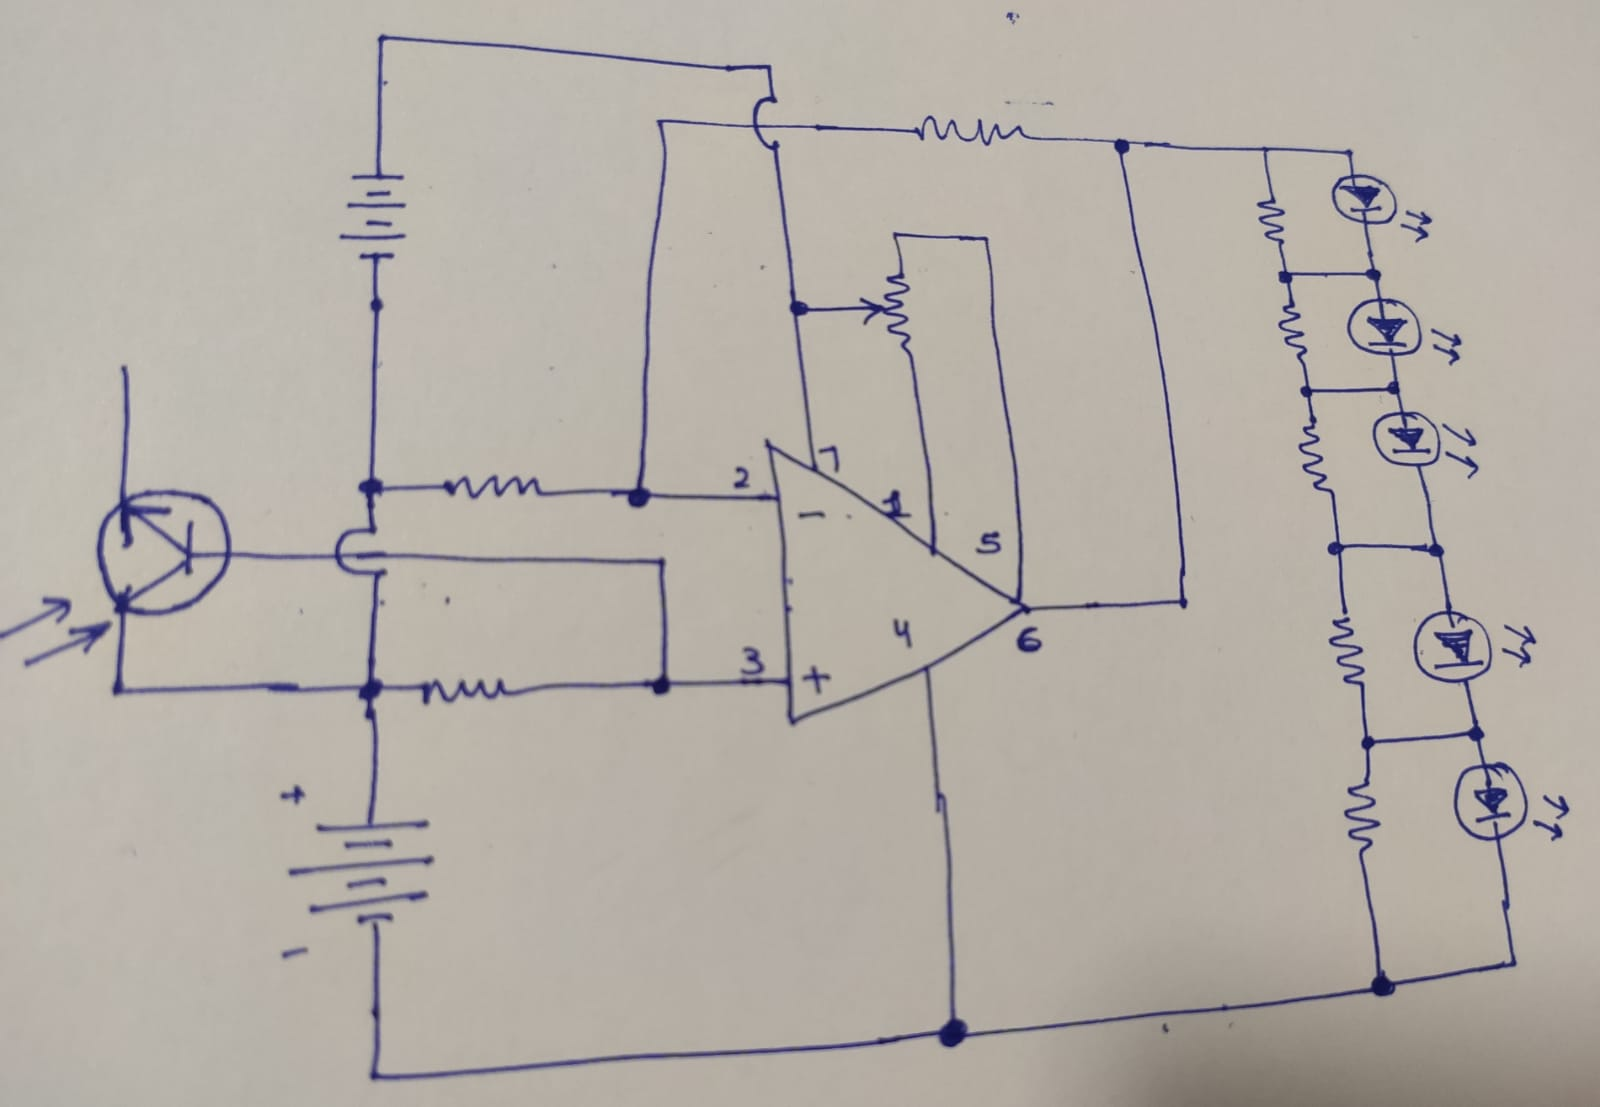crossover: (332, 519, 390, 582), (751, 89, 788, 156)
diode.light_emitting: (1450, 756, 1568, 846), (1412, 608, 1538, 684), (1343, 293, 1463, 368), (1367, 407, 1481, 480), (1326, 166, 1432, 239)
junction: (344, 657, 400, 713), (1373, 367, 1419, 408), (928, 1013, 978, 1050), (1266, 256, 1307, 296), (777, 287, 819, 326), (102, 670, 139, 711), (1363, 966, 1404, 1001), (618, 478, 658, 513), (644, 663, 678, 700), (1416, 533, 1453, 567), (357, 1058, 394, 1091), (1105, 129, 1140, 160), (646, 546, 676, 582), (351, 474, 393, 501), (1292, 374, 1325, 406), (1351, 725, 1384, 756), (1322, 531, 1351, 561), (370, 26, 396, 57), (646, 111, 674, 140), (1171, 588, 1198, 616), (1359, 259, 1390, 283), (756, 55, 783, 81), (1463, 721, 1491, 744), (1502, 949, 1525, 976), (971, 228, 996, 250), (1339, 145, 1359, 165), (884, 226, 906, 245), (1256, 142, 1275, 160)
operational_amplifier: (757, 429, 1038, 734)
resistor: (909, 113, 1026, 149), (1334, 775, 1386, 855), (1294, 414, 1336, 499), (1326, 612, 1370, 690), (441, 469, 543, 501), (416, 673, 514, 704), (1277, 296, 1311, 358), (1253, 191, 1290, 248)
resistor.adjustable: (855, 258, 916, 356)
terminal: (109, 352, 142, 384)
text: (799, 662, 834, 697), (737, 643, 770, 677), (881, 488, 914, 521), (888, 614, 916, 651), (1015, 625, 1044, 654), (973, 529, 1003, 557), (817, 442, 843, 475), (732, 465, 753, 488), (793, 508, 828, 521)
transistor.photo: (2, 482, 232, 667)
voltage.dc: (272, 783, 436, 961), (336, 166, 409, 266)
